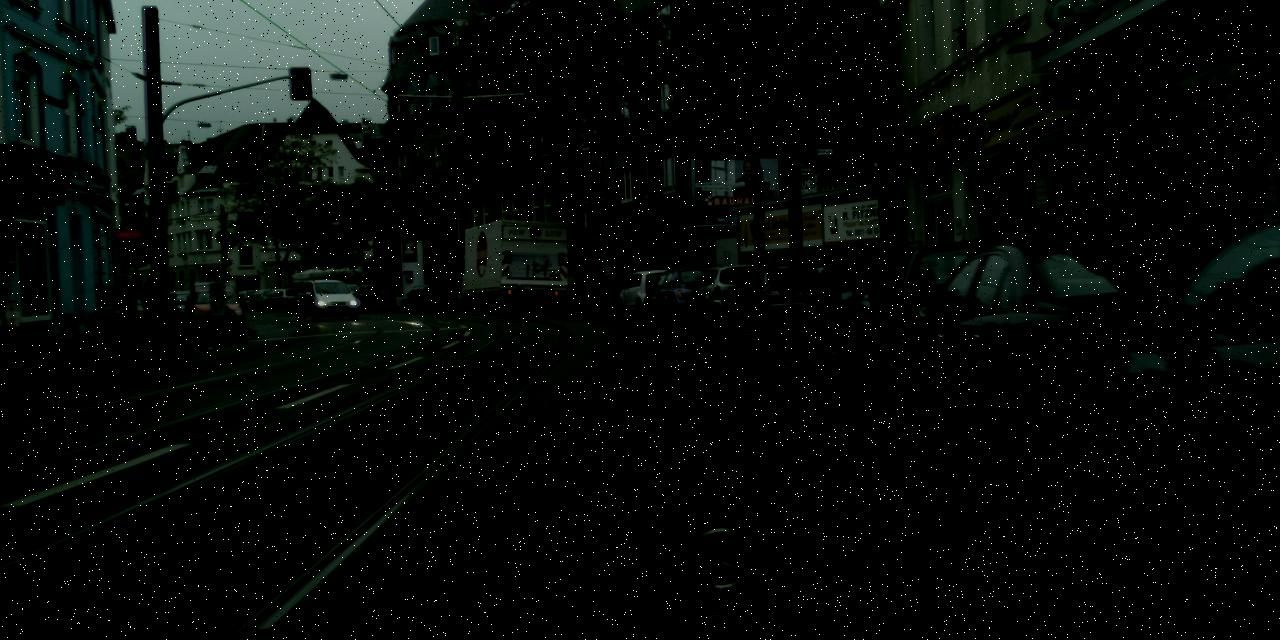ped: (121, 278, 138, 323), (140, 282, 156, 324)
